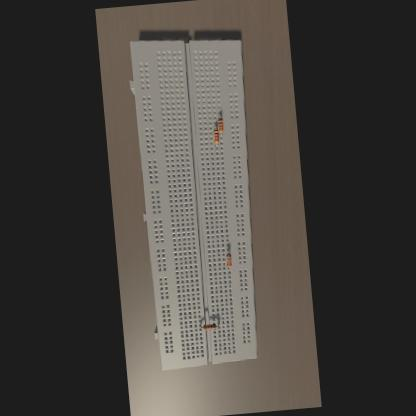breadboard: (126, 31, 268, 371)
resistor: (213, 128, 219, 144), (218, 118, 224, 133), (203, 324, 216, 330), (226, 254, 231, 267)
wire: (219, 133, 221, 138), (216, 322, 218, 326), (200, 324, 202, 328), (228, 249, 229, 254), (219, 116, 221, 118), (214, 126, 216, 128), (216, 144, 217, 148), (229, 268, 230, 270)
